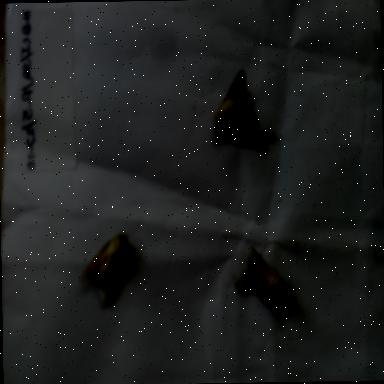abw: (206, 62, 279, 154), (78, 224, 144, 318), (233, 238, 295, 318)
